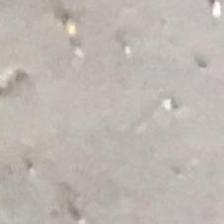Non_Crack: (27, 12, 224, 224)
